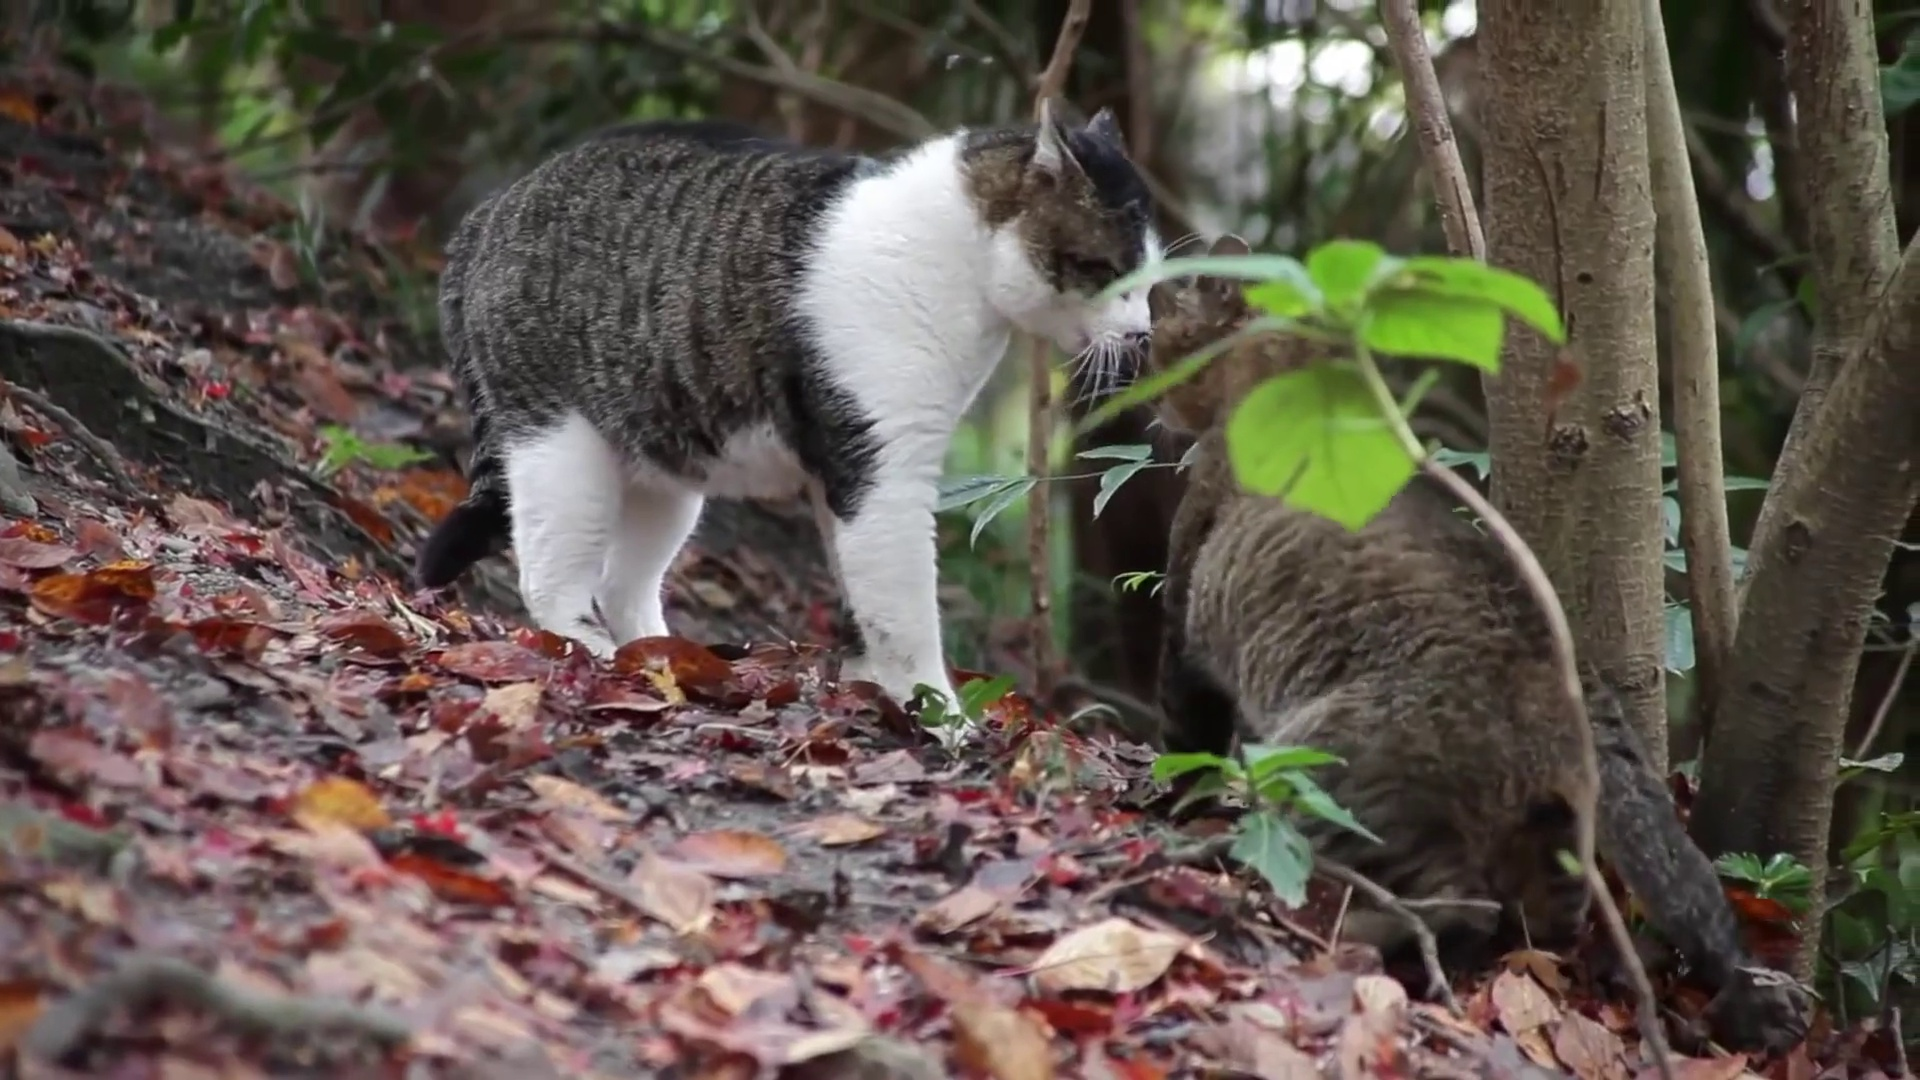black-white: (417, 95, 1164, 748)
pure black: (1142, 229, 1662, 959)
